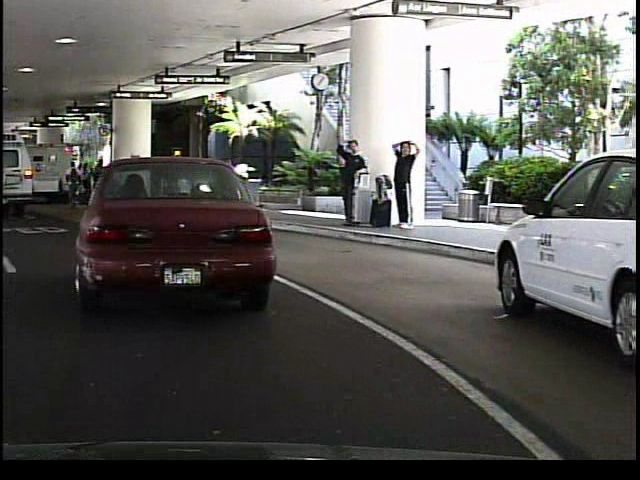person: (333, 134, 365, 227), (388, 135, 417, 233), (214, 151, 242, 218), (354, 151, 375, 222)
